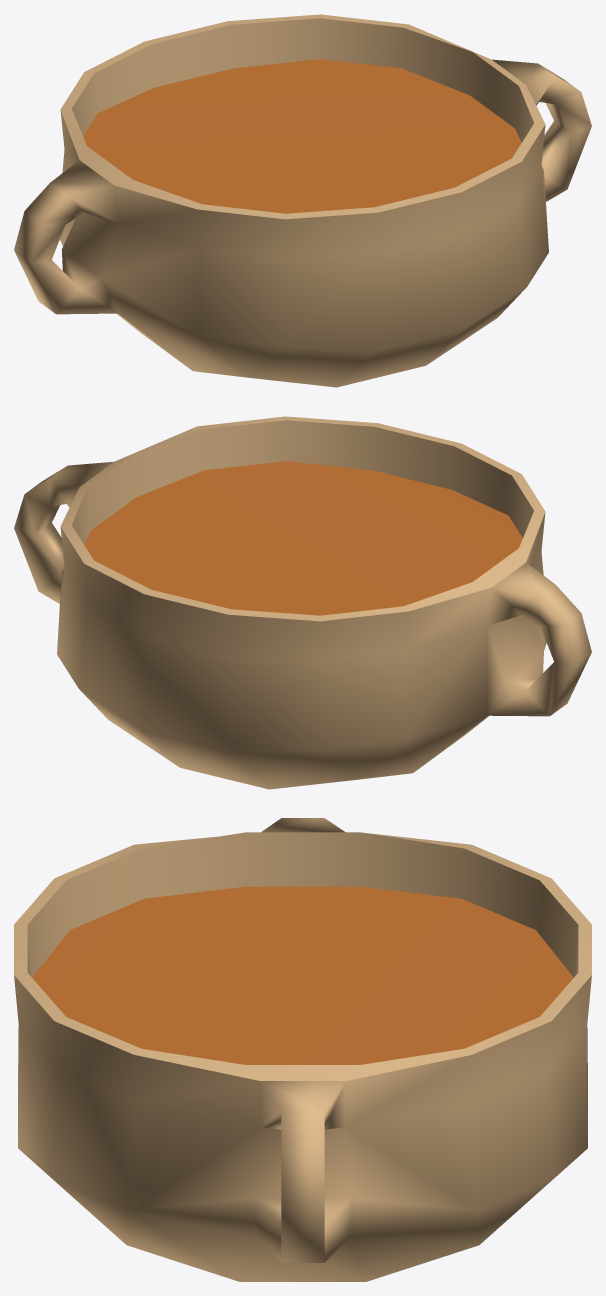
File: SM_Tureen.fbx
The picture shows the model from 3 angles, top to bottom: view 1: azimuth 30°, elevation 25°; view 2: azimuth 150°, elevation 25°; view 3: azimuth 270°, elevation 25°; orthographic projection. The views are drawn at different scales.
Visible parts, largest first — view 1: SM_Tureen; view 2: SM_Tureen; view 3: SM_Tureen.
Part boxes in pixels (bbox=[...]): SM_Tureen: bbox=[14, 14, 591, 387]; SM_Tureen: bbox=[14, 416, 591, 789]; SM_Tureen: bbox=[14, 818, 591, 1281].
Bounding box in the file's own units: 0.4647 × 0.1736 × 0.3358.
